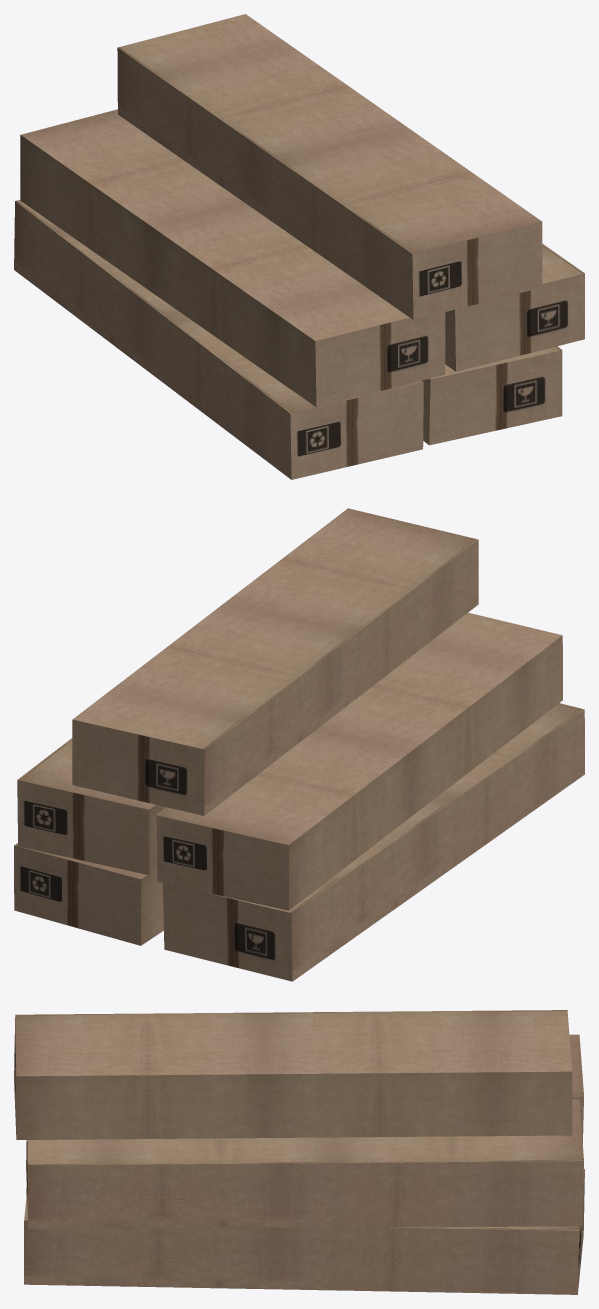
Rendered from crate-long.glb.
3 renders of one model, top to bottom at view 1: azimuth 30°, elevation 25°; view 2: azimuth 150°, elevation 25°; view 3: azimuth 270°, elevation 25°, orthographic. The views are drawn at different scales.
Parts seen in each view (by area): view 1: long box; view 2: long box; view 3: long box.
Boxes of the visible parts, x1=… form: long box: x1=14, y1=14, x2=584, y2=479; long box: x1=14, y1=508, x2=584, y2=981; long box: x1=14, y1=1010, x2=584, y2=1294.
Size of the model in its own units: 0.7855 by 0.5238 by 1.37.
Materials: 1 (1 with a texture image).
